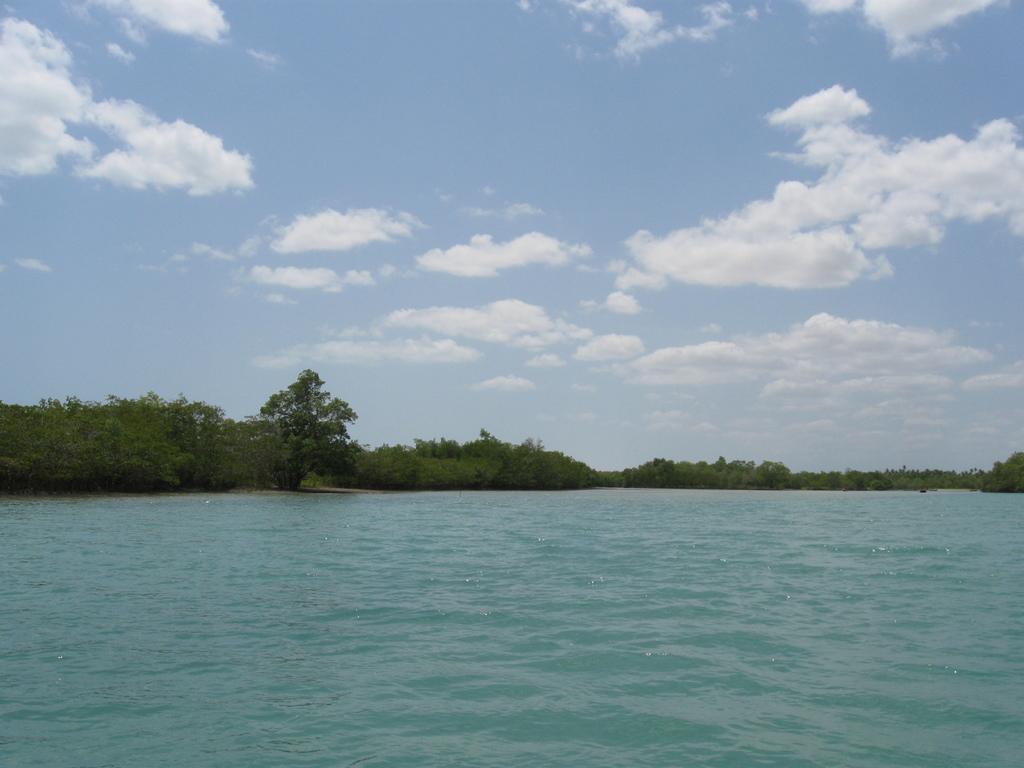Tree: (0, 388, 238, 486), (235, 350, 357, 495), (974, 449, 1023, 490)
